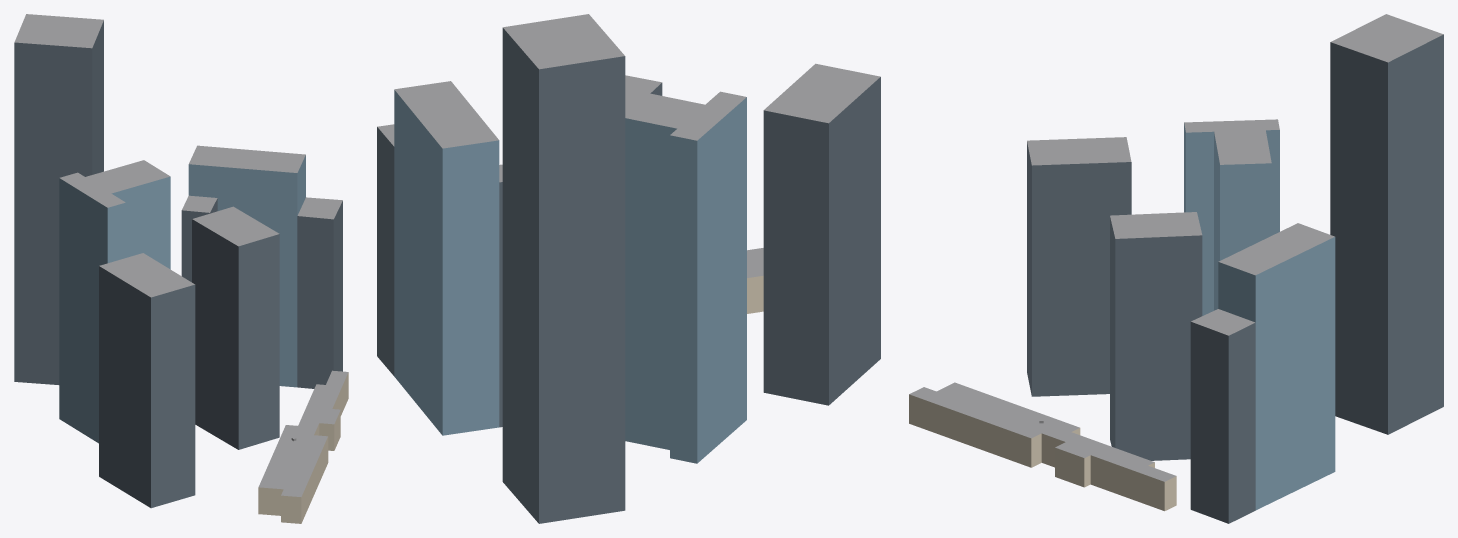
Rendered from building_-5_3.glb.
3 views of the same model, side by side, from view 1: azimuth 30°, elevation 25°; view 2: azimuth 150°, elevation 25°; view 3: azimuth 270°, elevation 25° (orthographic). The views are drawn at different scales.
Parts seen in each view (by area): view 1: glass_dark, glass_blue, roof, sandstone; view 2: glass_dark, glass_blue, roof, sandstone; view 3: glass_dark, glass_blue, roof, sandstone.
Part boxes in pixels (box(x1,y1,x2,y2)): glass_dark: box(14, 21, 342, 508); glass_blue: box(59, 155, 305, 443); roof: box(14, 14, 348, 496); sandstone: box(258, 372, 348, 523); glass_dark: box(377, 28, 880, 523); glass_blue: box(394, 90, 746, 463); roof: box(377, 14, 880, 277); sandstone: box(747, 275, 763, 313); glass_dark: box(1027, 34, 1443, 523); glass_blue: box(1184, 123, 1335, 510); roof: box(909, 14, 1443, 481); sandstone: box(909, 394, 1176, 511).
Size of the model in its own units: 170 by 190 by 247.
